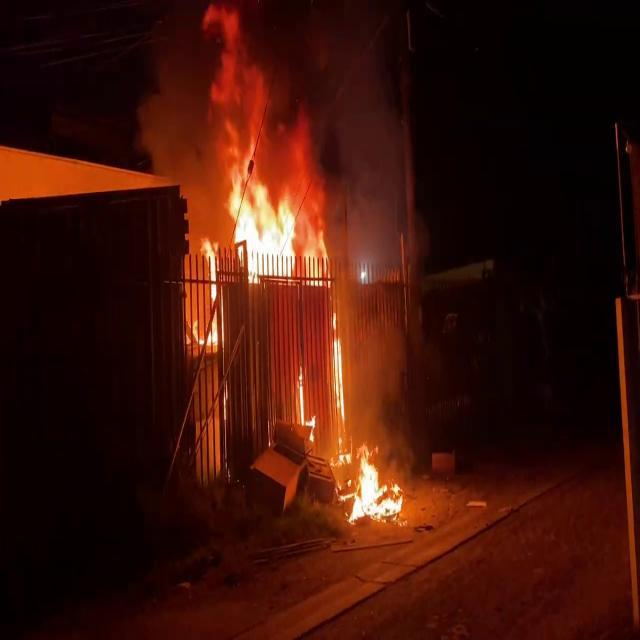Fire: (194, 144, 319, 294), (344, 446, 408, 526)
Smoke: (314, 22, 418, 402), (139, 0, 329, 183)
